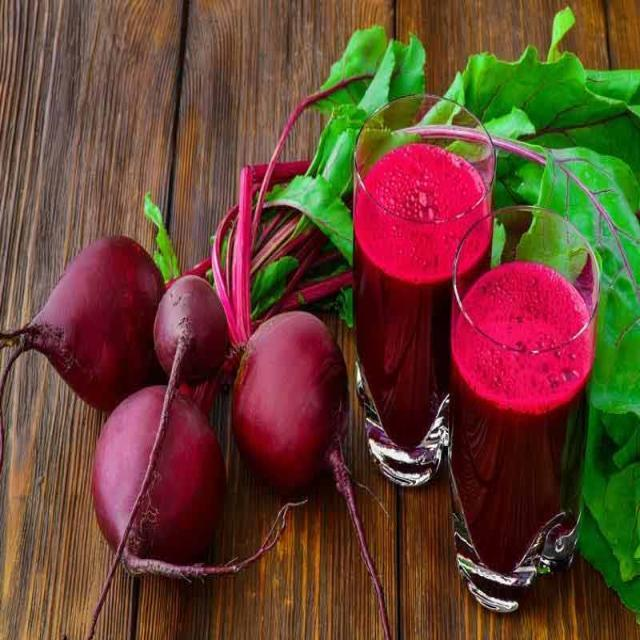beet: (89, 382, 227, 576), (29, 236, 159, 410), (238, 311, 350, 495), (162, 259, 222, 395)
